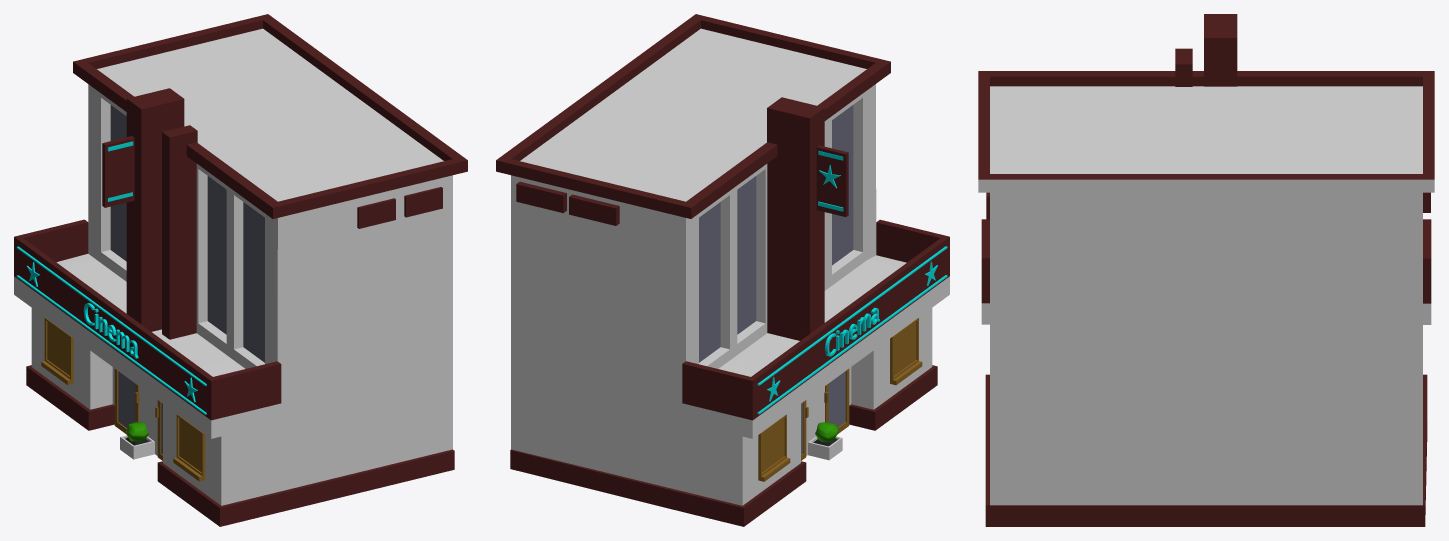
Rendered from Mall_3.fbx.
The picture shows the model from 3 angles, left to right: view 1: azimuth 30°, elevation 25°; view 2: azimuth 150°, elevation 25°; view 3: azimuth 270°, elevation 25°; orthographic projection. The views are drawn at different scales.
Parts seen in each view (by area): view 1: Mall; view 2: Mall; view 3: Mall.
Part boxes in pixels (bbox=[...]): Mall: bbox=[14, 14, 467, 526]; Mall: bbox=[496, 14, 949, 526]; Mall: bbox=[978, 14, 1434, 526].
Size of the model in its own units: 0.5957 by 0.7579 by 0.7993.
